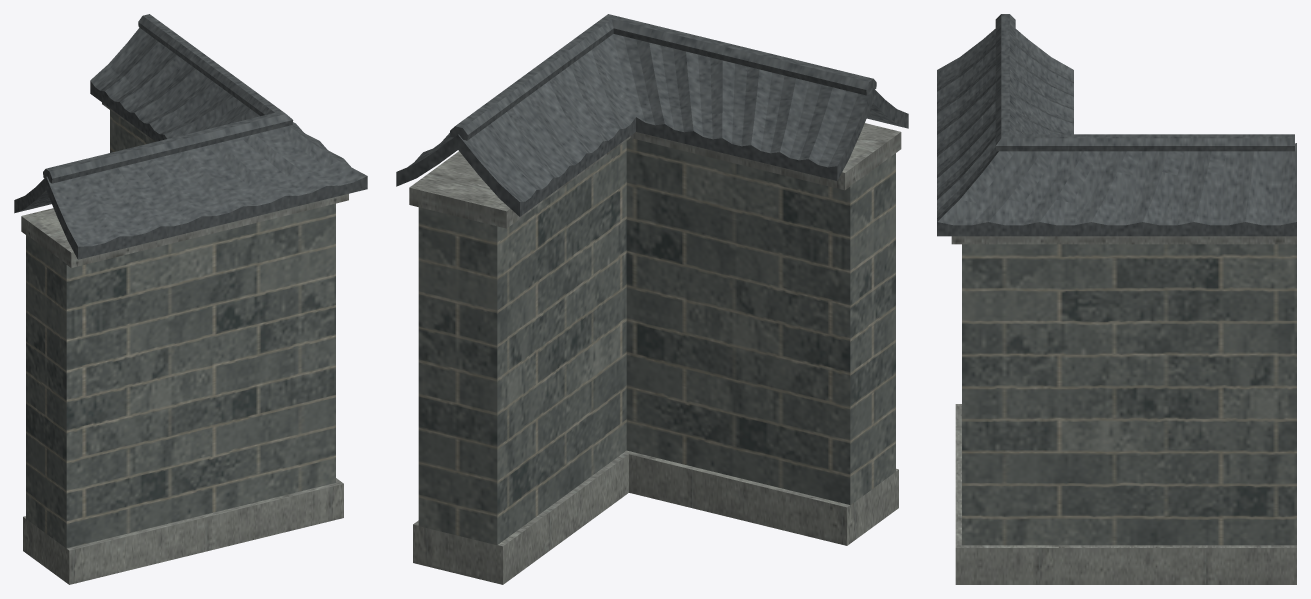
Rendered from WallCorner_LOD0.fbx.
3 views of the same model, side by side, from view 1: azimuth 30°, elevation 25°; view 2: azimuth 150°, elevation 25°; view 3: azimuth 270°, elevation 25° (orthographic). The views are drawn at different scales.
Parts seen in each view (by area): view 1: WallCorner; view 2: WallCorner; view 3: WallCorner.
Boxes of the visible parts, box(x1,y1,x2,y2) form: WallCorner: box(14, 14, 367, 584); WallCorner: box(396, 14, 908, 584); WallCorner: box(937, 14, 1296, 584).
Size of the model in its own units: 1.23 by 1.62 by 1.23.
1 material, 1 textured.
